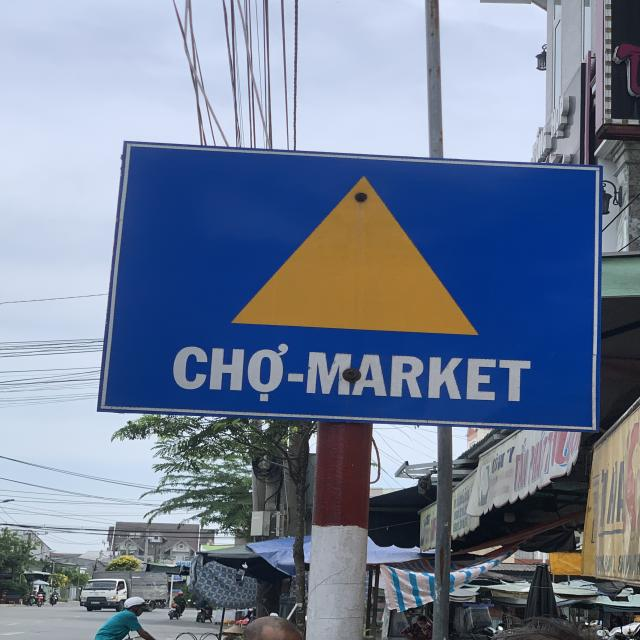Cho_Quay_Xe: (109, 150, 596, 430)
